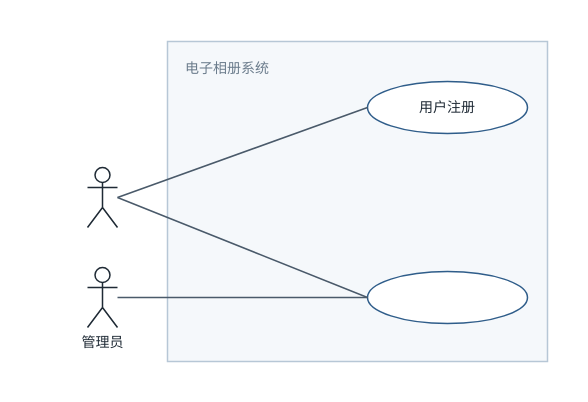
Image size: 588x402. Some labels were removed from this diagram. The centre of each missing label's shape, as x and y in pixels:
普通用户: point 102,197
用户登录: point 447,297
